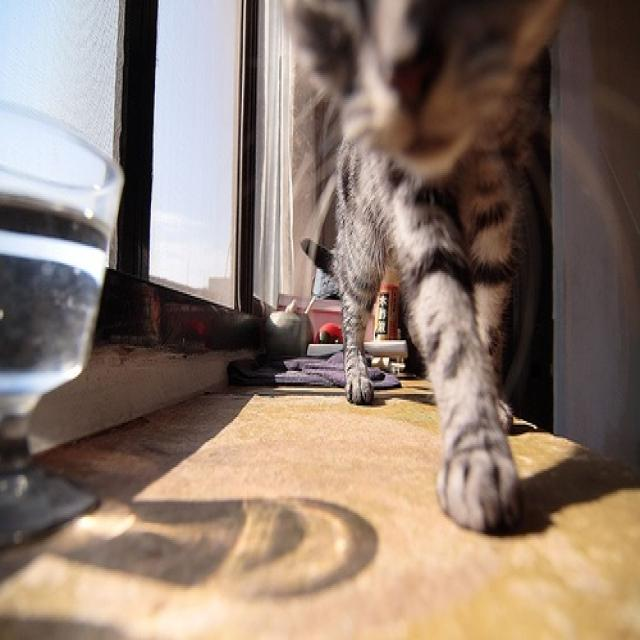cat: (299, 0, 565, 534)
